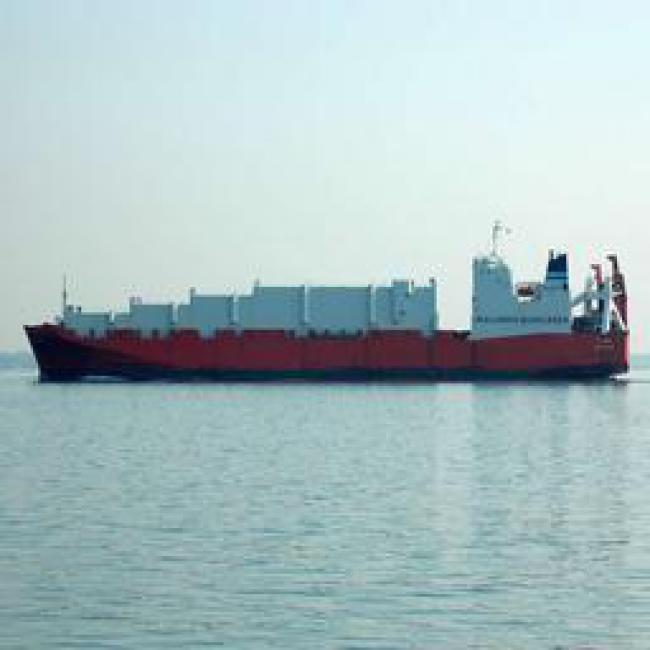Ship: (23, 280, 637, 389)
